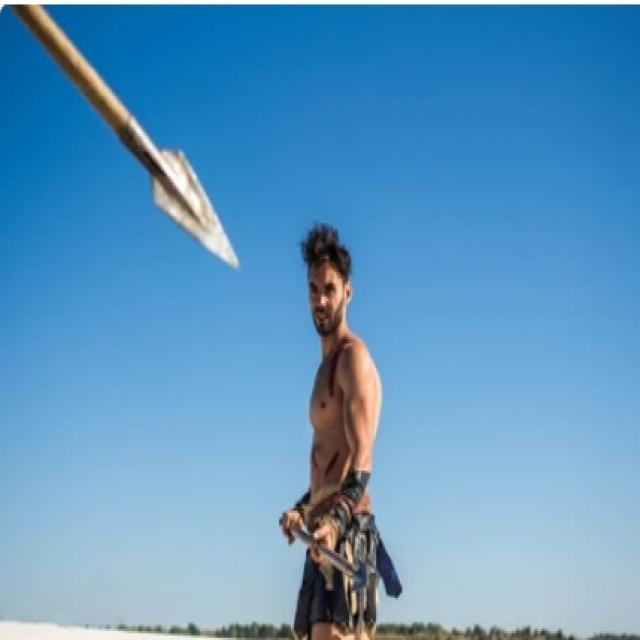spear: (0, 9, 263, 303)
